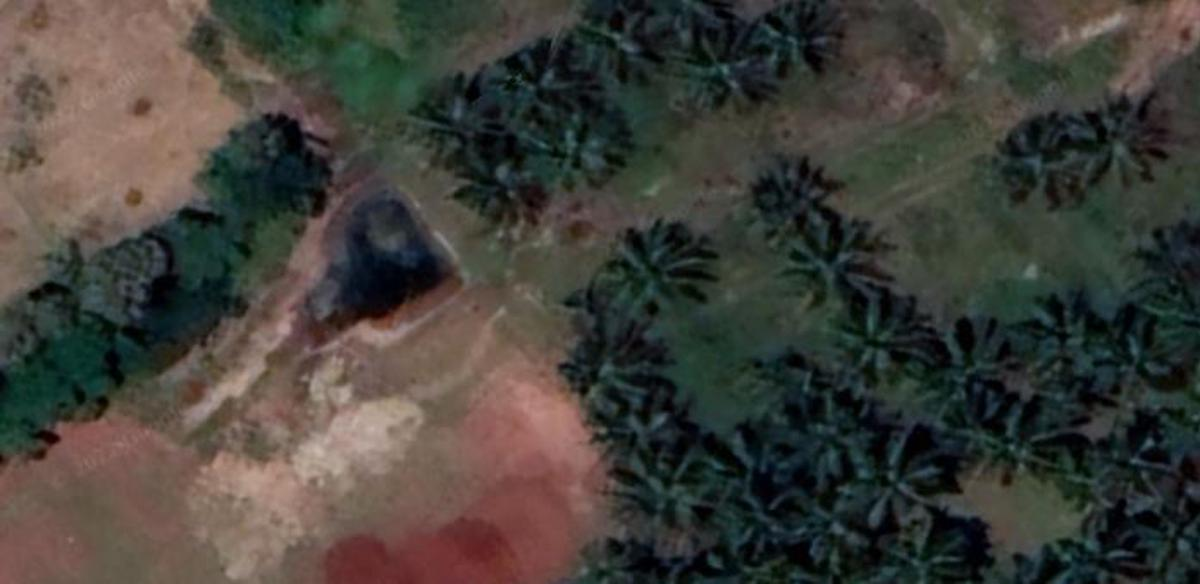coconut: (602, 215, 721, 308), (411, 65, 509, 170), (559, 313, 664, 411), (786, 215, 893, 306), (752, 155, 848, 248), (859, 506, 972, 584), (989, 117, 1086, 205), (922, 315, 1014, 403), (535, 106, 630, 191), (1024, 301, 1108, 396), (492, 41, 581, 130), (449, 141, 538, 229), (750, 0, 840, 87), (847, 441, 952, 515), (1108, 313, 1194, 403), (969, 410, 1072, 482), (1089, 98, 1172, 187), (841, 301, 936, 378), (583, 5, 668, 91), (702, 430, 804, 499), (585, 389, 686, 458), (607, 463, 702, 535), (790, 401, 883, 472), (714, 482, 790, 559), (791, 494, 869, 566), (759, 347, 841, 415), (1103, 423, 1177, 494), (680, 39, 752, 111), (1132, 220, 1194, 301), (1132, 511, 1200, 584), (1060, 453, 1132, 518), (662, 0, 736, 62), (1060, 528, 1131, 582), (571, 532, 655, 575)
